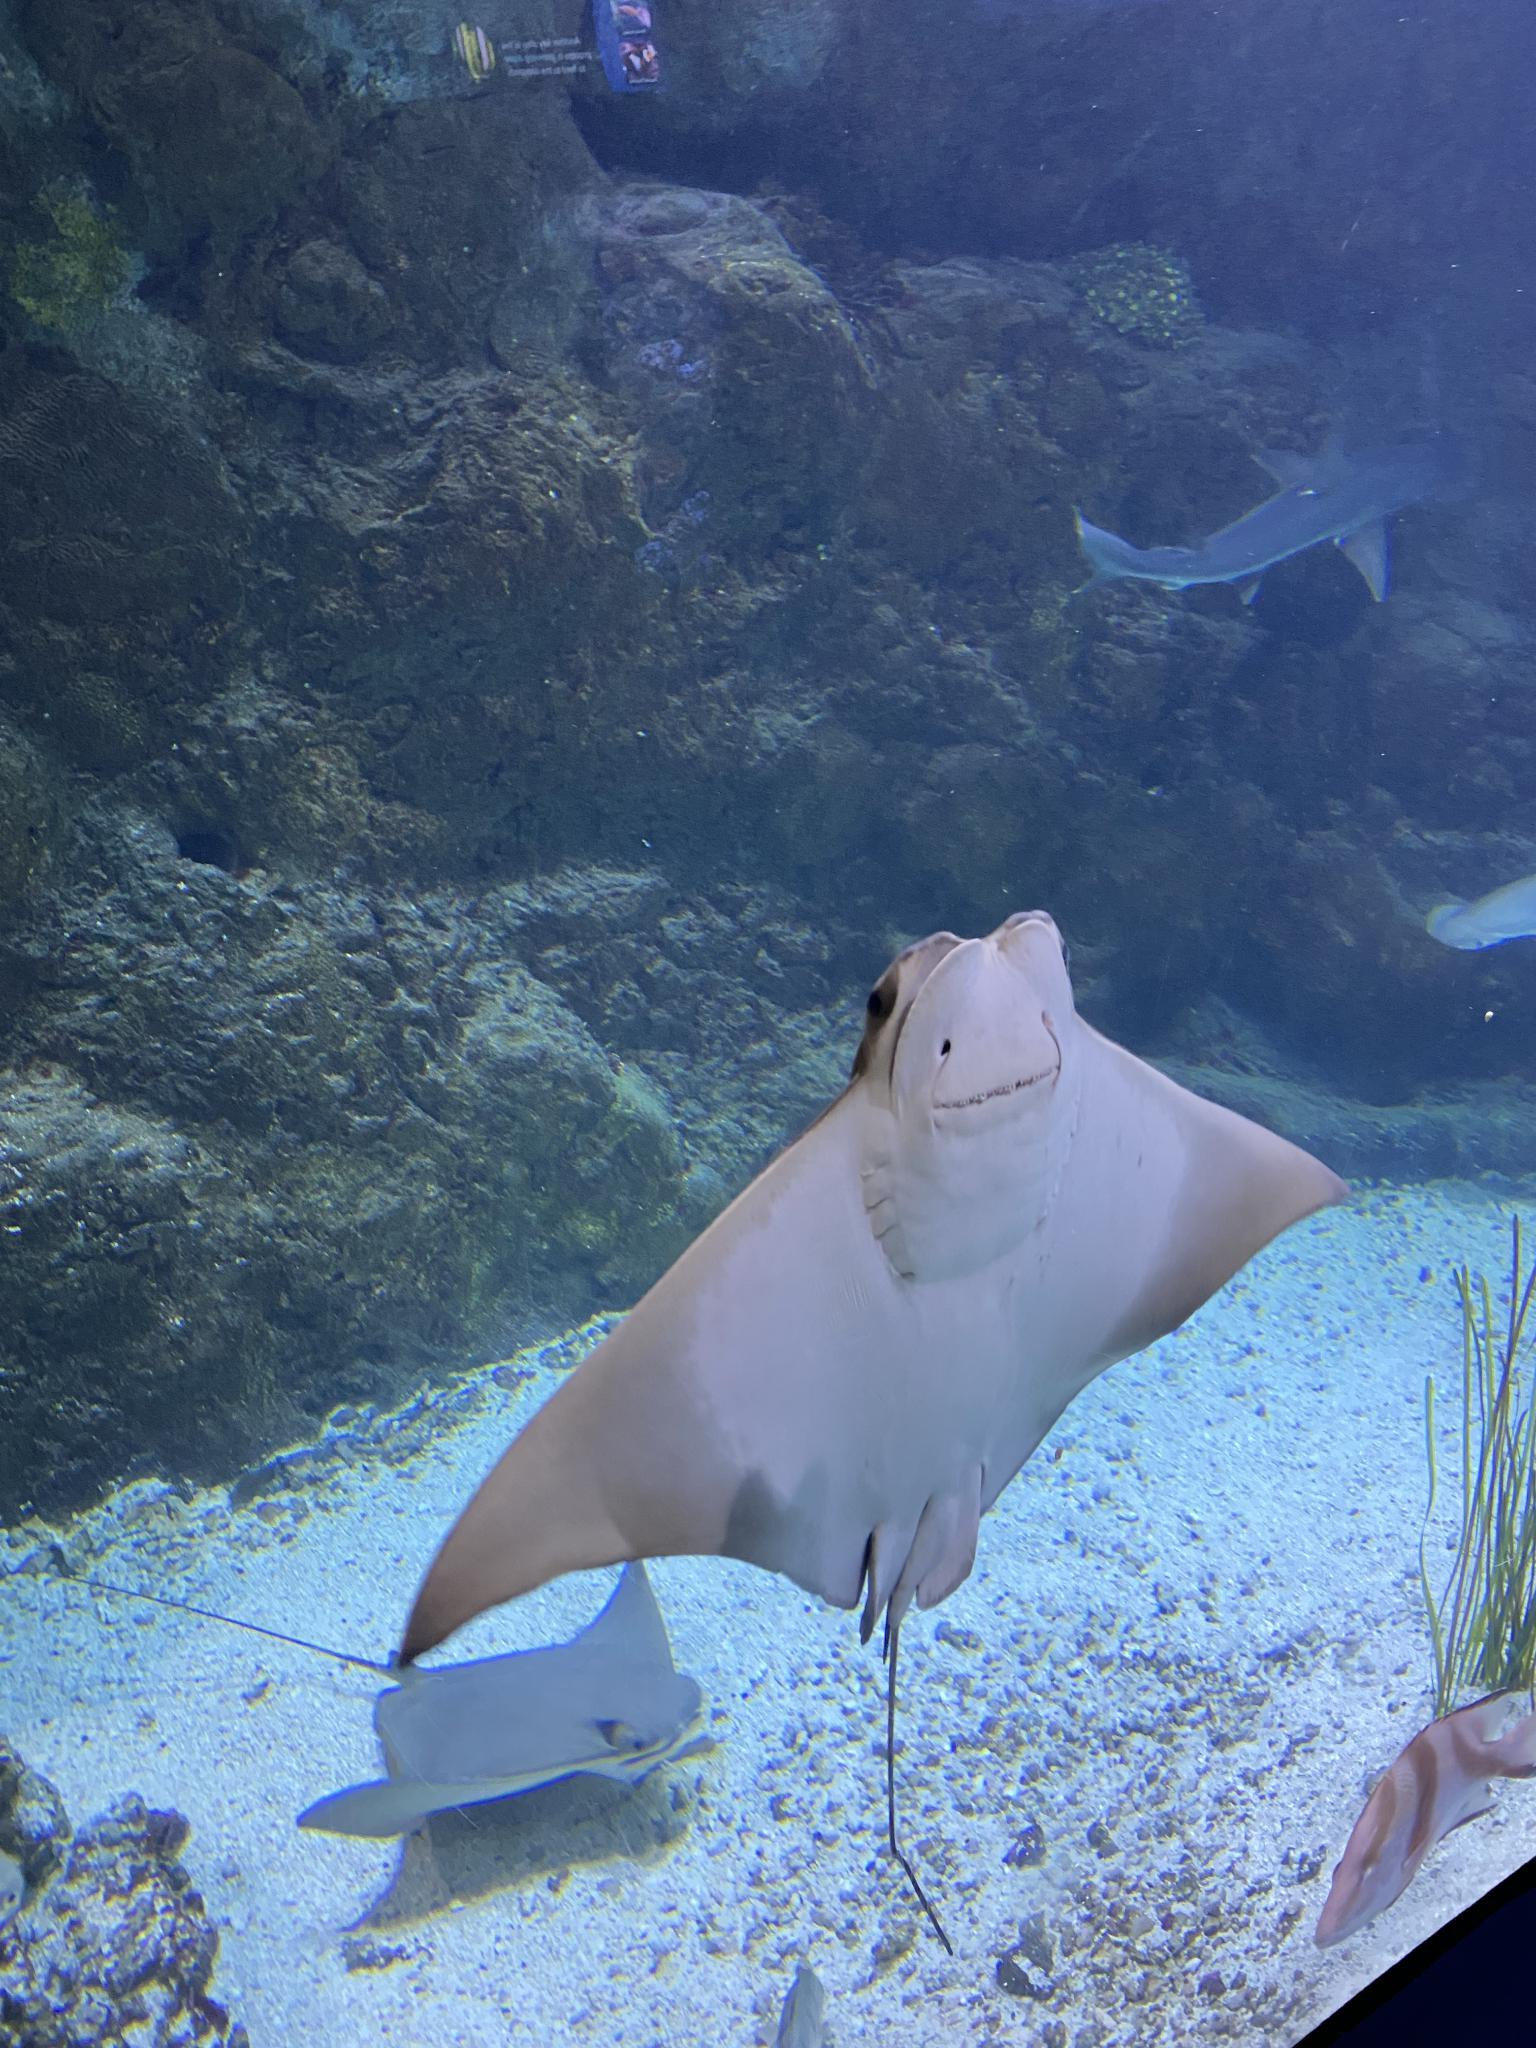fish: (1315, 1688, 1536, 1951)
shark: (1071, 440, 1434, 605), (1425, 871, 1534, 950)
stingray: (400, 910, 1349, 1661), (298, 1559, 703, 1840)
